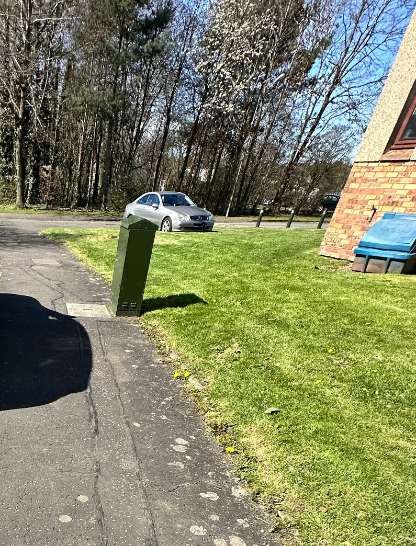car: (111, 182, 225, 244)
